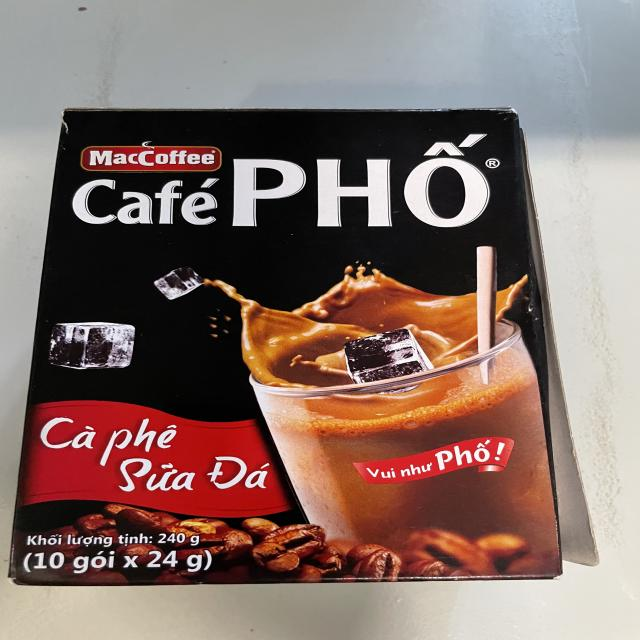object_name: (34, 105, 554, 585)
